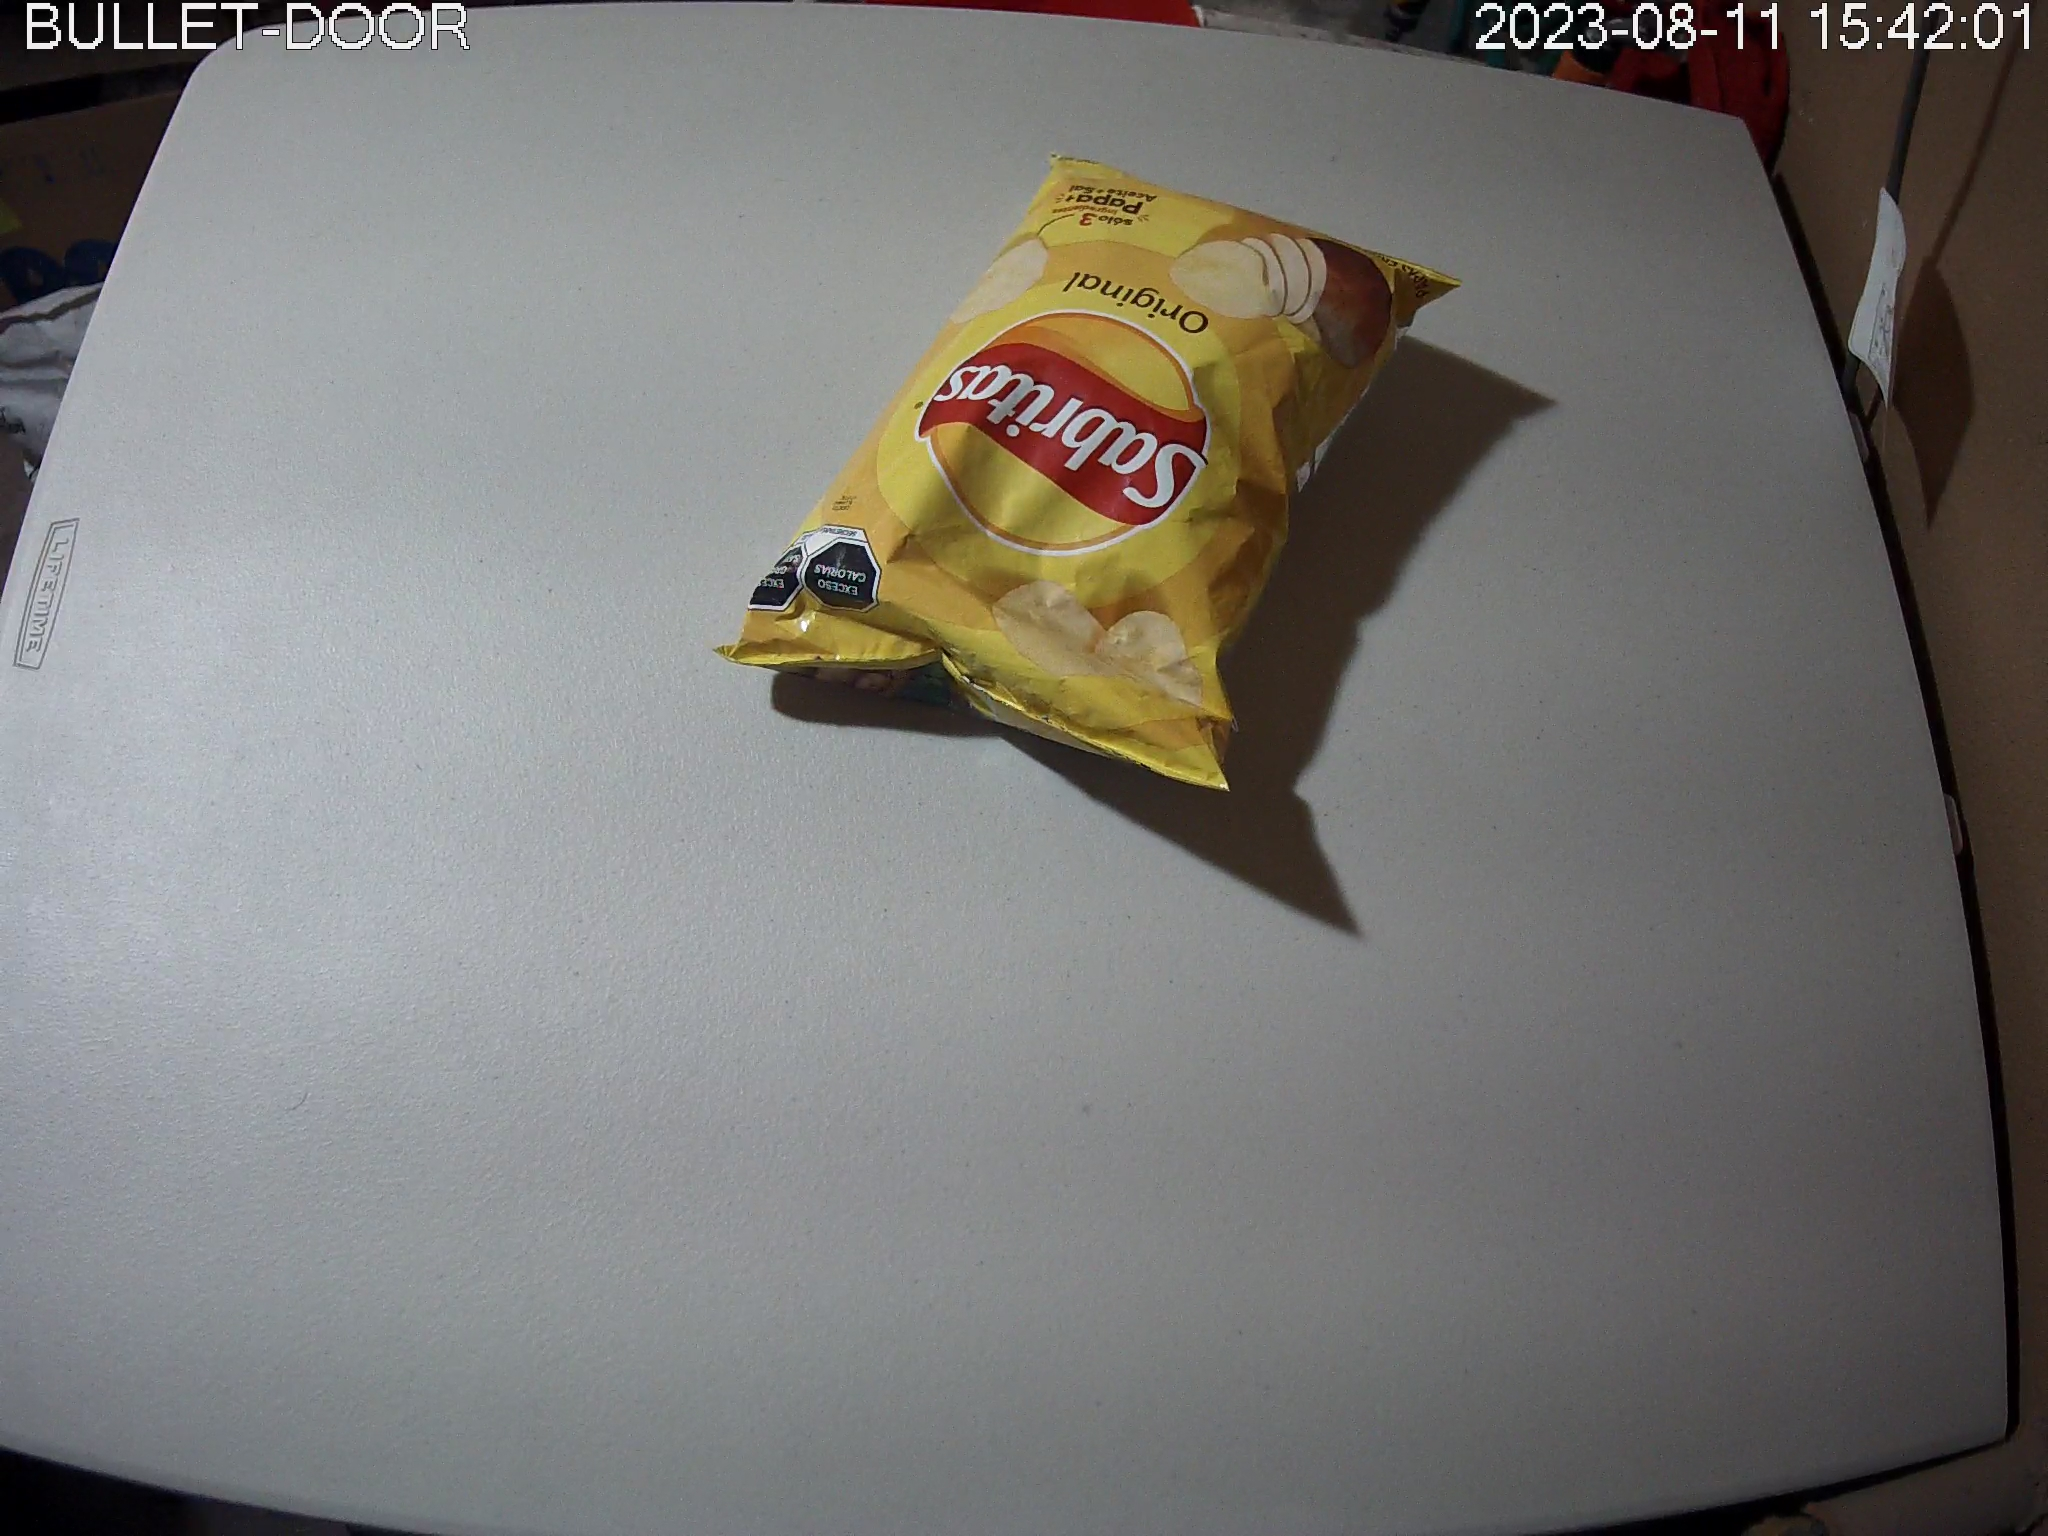Sabritas_160_F: (714, 147, 1464, 794)
